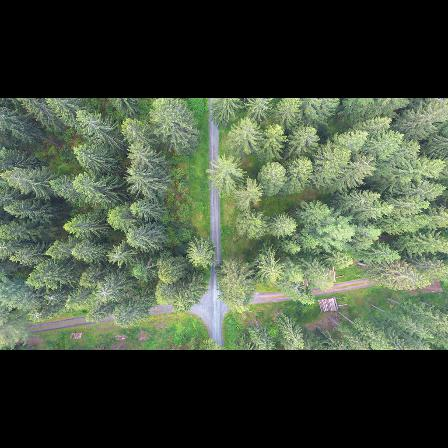Sick: (106, 247, 126, 268), (28, 306, 47, 325), (96, 283, 114, 301)
